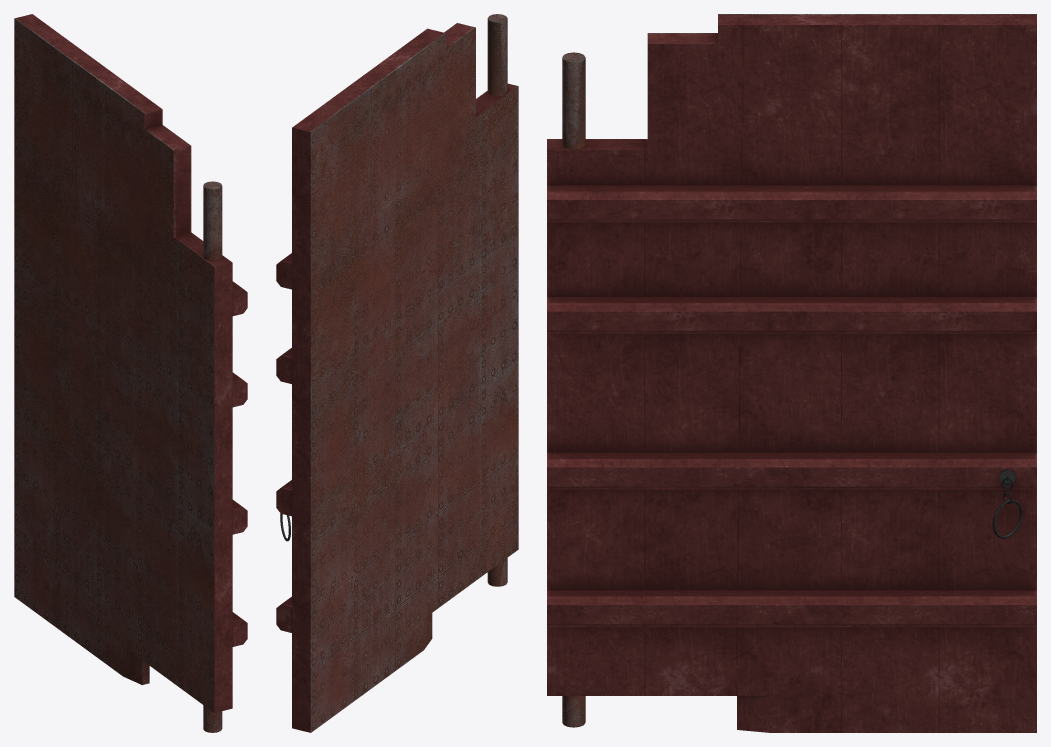
Rendered from SM_Castle_Door01a.fbx.
The picture shows the model from 3 angles, left to right: view 1: azimuth 30°, elevation 25°; view 2: azimuth 150°, elevation 25°; view 3: azimuth 270°, elevation 25°; orthographic projection. The views are drawn at different scales.
Parts seen in each view (by area): view 1: SM_Castle_Door01a; view 2: SM_Castle_Door01a; view 3: SM_Castle_Door01a.
Part boxes in pixels (x1,y1,x2,y2): SM_Castle_Door01a: (14, 14, 247, 732); SM_Castle_Door01a: (276, 14, 518, 732); SM_Castle_Door01a: (547, 14, 1036, 732).
Size of the model in its own units: 19.96 by 147 by 235.
Materials: 1 (1 with a texture image).
